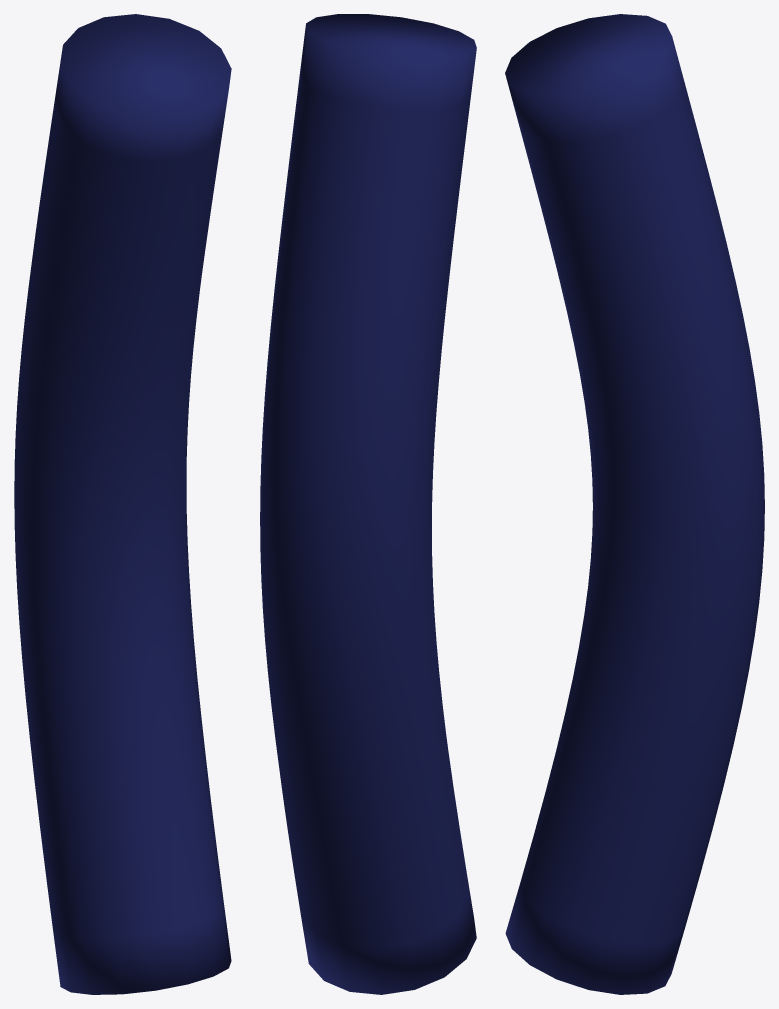
The model's file is Volume3.fbx.
3 renders of one model, left to right at view 1: azimuth 30°, elevation 25°; view 2: azimuth 150°, elevation 25°; view 3: azimuth 270°, elevation 25°, orthographic.
Parts seen in each view (by area): view 1: Volume3; view 2: Volume3; view 3: Volume3.
Boxes of the visible parts, left/top/right/bottom form: Volume3: left=14, top=14, right=231, bottom=994; Volume3: left=260, top=14, right=476, bottom=994; Volume3: left=505, top=14, right=764, bottom=994.
Size of the model in its own units: 32.2 by 194 by 48.65.
